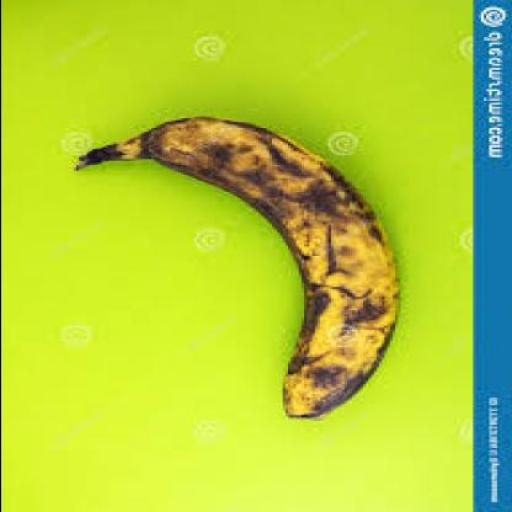biodegradable: (72, 114, 399, 418)
